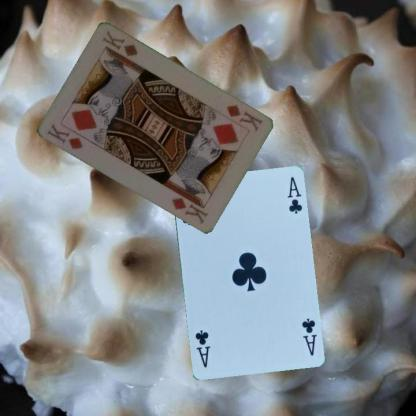Ac: (299, 316, 318, 357)
Kd: (44, 121, 84, 151), (224, 102, 264, 132)
